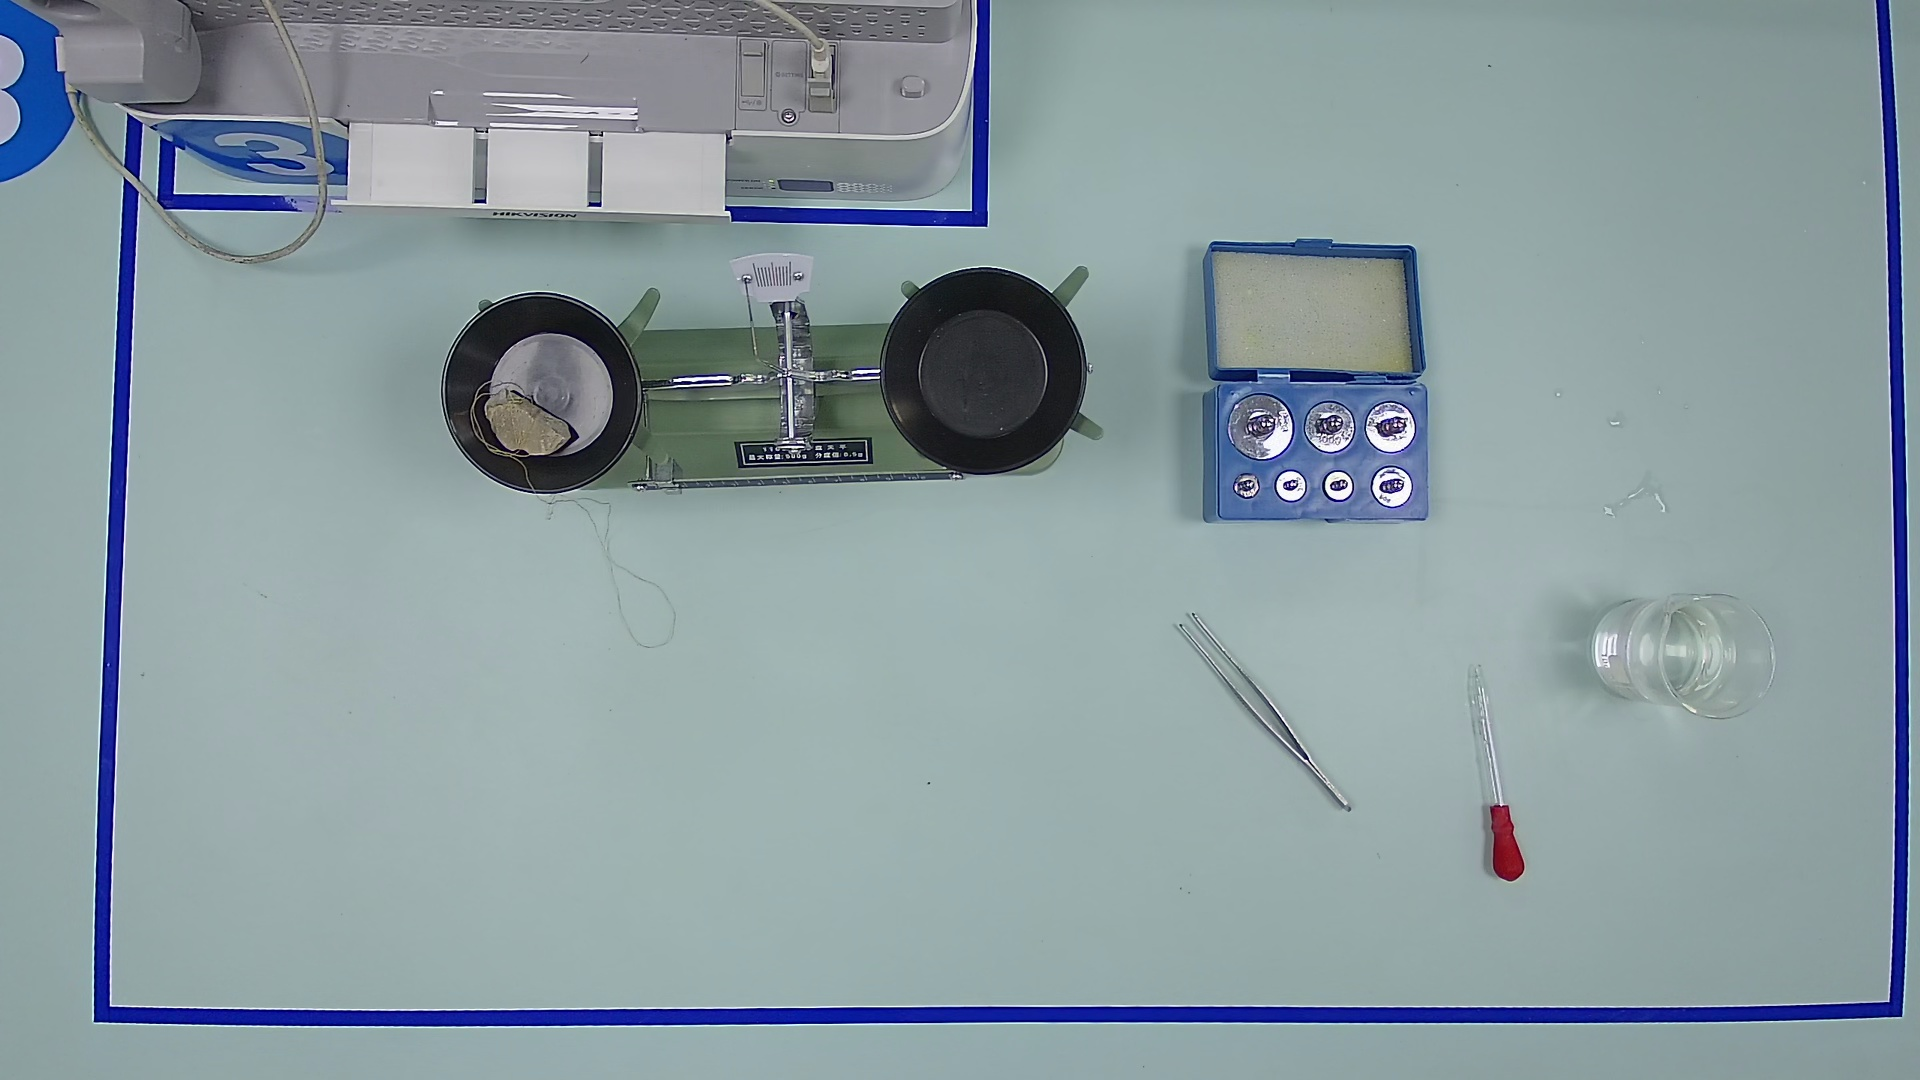bei: (1590, 575, 1778, 729)
diguan: (1439, 647, 1539, 894)
diguantou: (1476, 793, 1538, 887)
fama: (1226, 393, 1294, 463), (1302, 401, 1356, 455), (1364, 402, 1418, 454), (1370, 465, 1414, 509), (1273, 469, 1308, 502), (1320, 469, 1356, 502), (1232, 471, 1261, 500)
gan: (624, 446, 953, 516)
he: (1189, 338, 1480, 554)
niezi: (1170, 595, 1374, 839)
pointer: (735, 249, 814, 301)
shi: (481, 378, 578, 464)
tuo: (857, 243, 1114, 506), (422, 276, 663, 516)
you: (649, 454, 684, 501)
